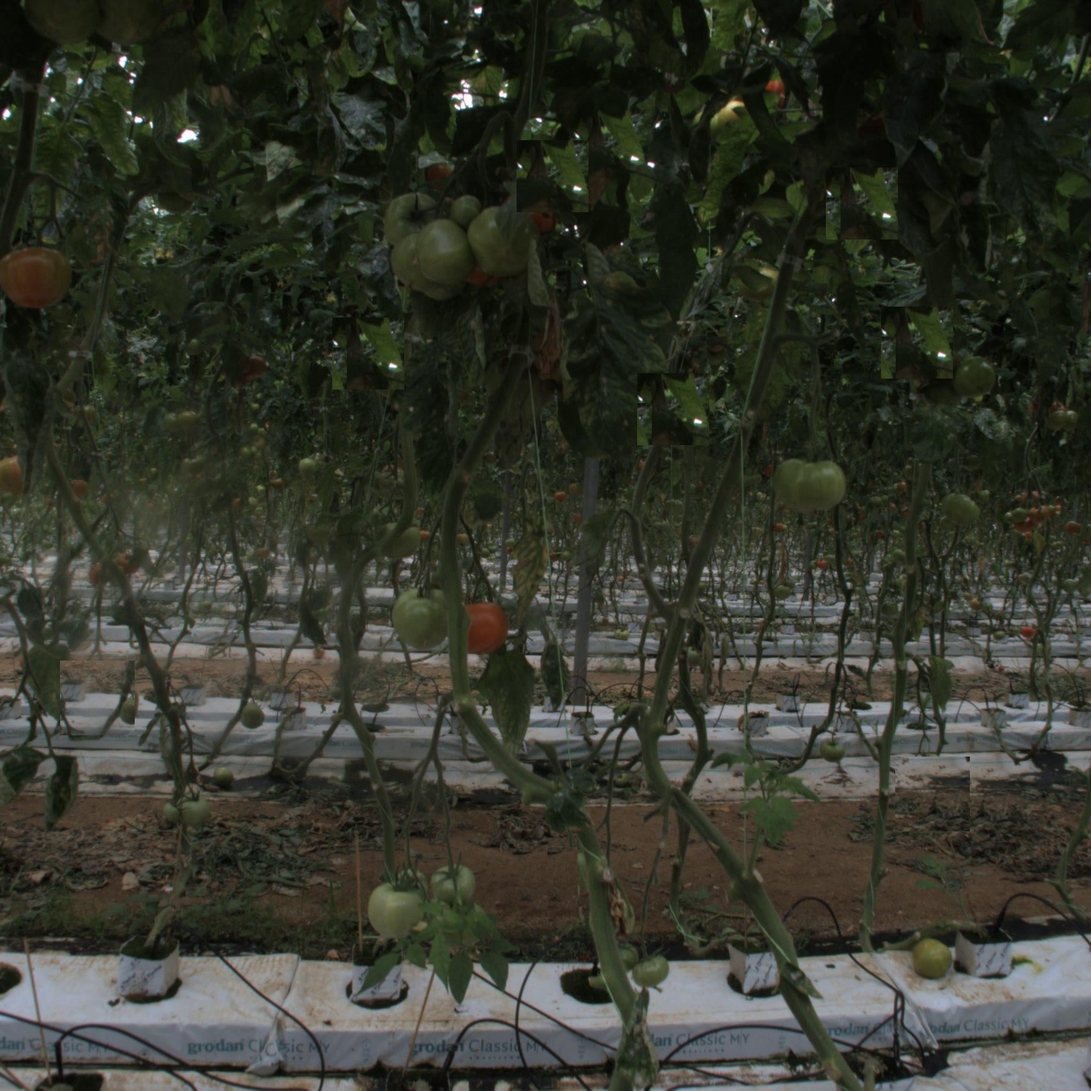['unripe', 'semi-ripe', 'fully-ripe']: (772, 441, 847, 515), (416, 219, 481, 285), (469, 206, 534, 272), (391, 584, 457, 649), (367, 881, 423, 938), (385, 194, 441, 250), (912, 938, 951, 977), (433, 865, 472, 904), (956, 357, 995, 396)
